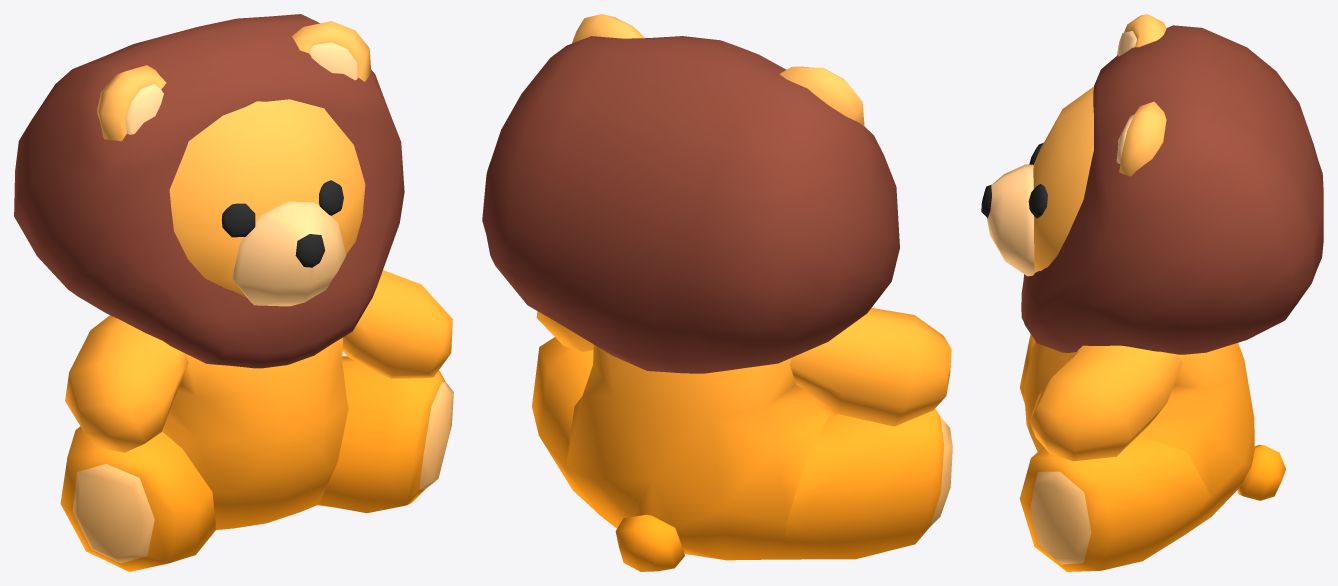
File: Lion_01.glb
The picture shows the model from 3 angles, left to right: view 1: azimuth 30°, elevation 25°; view 2: azimuth 150°, elevation 25°; view 3: azimuth 270°, elevation 25°; orthographic projection. The views are drawn at different scales.
Parts seen in each view (by area): view 1: Lion_01; view 2: Lion_01; view 3: Lion_01.
Boxes of the visible parts, x1,y1,x2,y2 form: Lion_01: (14,14,453,571); Lion_01: (482,14,952,571); Lion_01: (981,14,1323,571).
Size of the model in its own units: 0.3281 by 0.3974 by 0.2706.
2 materials, 2 textured.
